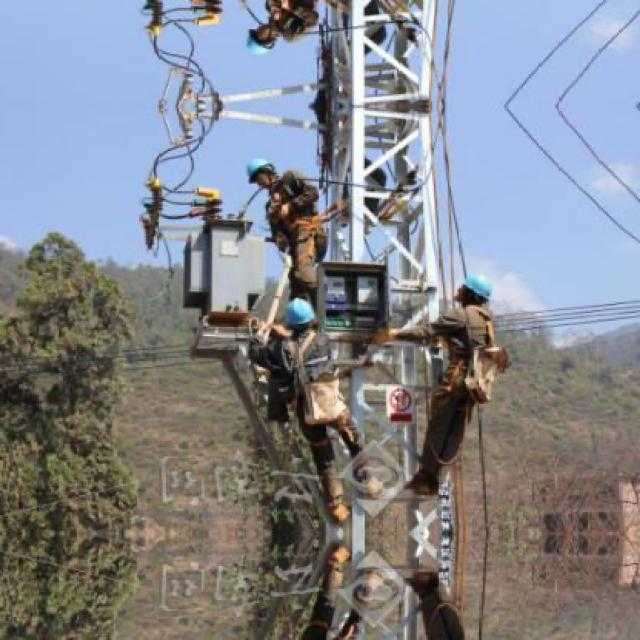con casco: (230, 307, 332, 376), (448, 261, 540, 313), (251, 142, 278, 214)
